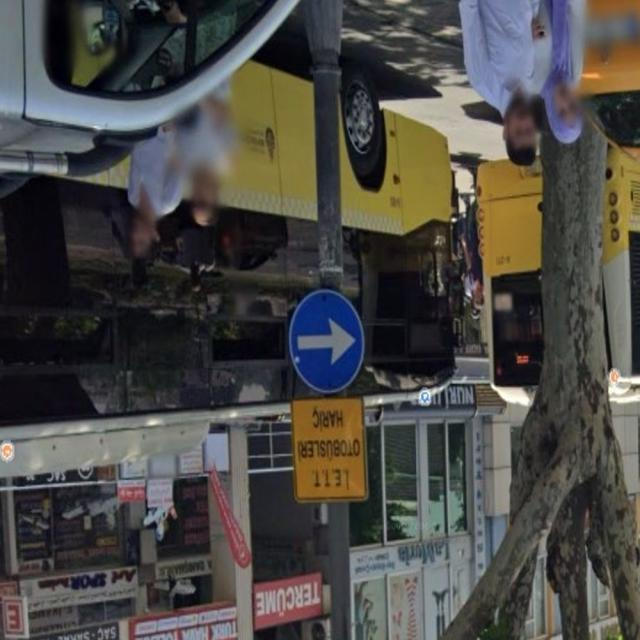Turn Right: (286, 283, 370, 398)
